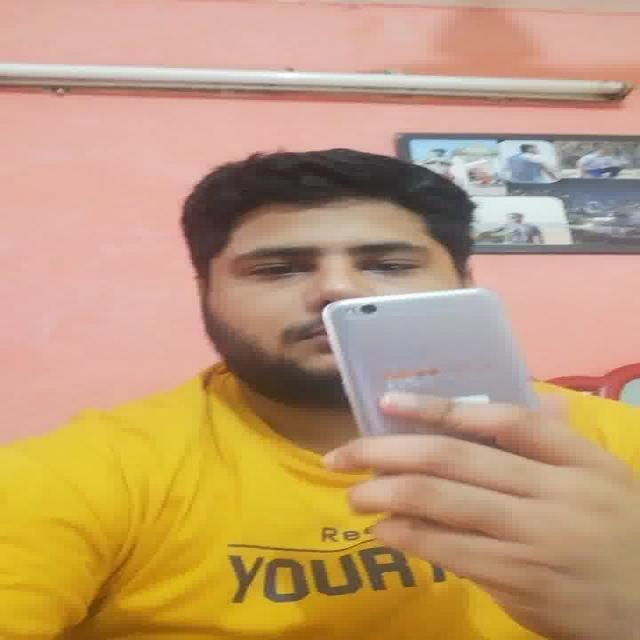Phone: (319, 288, 535, 437)
